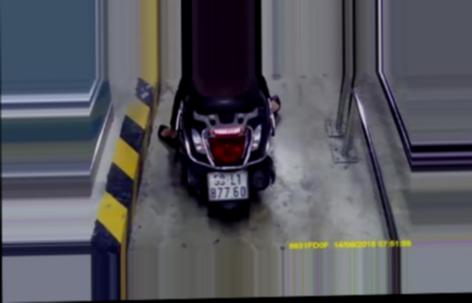License_Plate: (202, 167, 255, 207)
